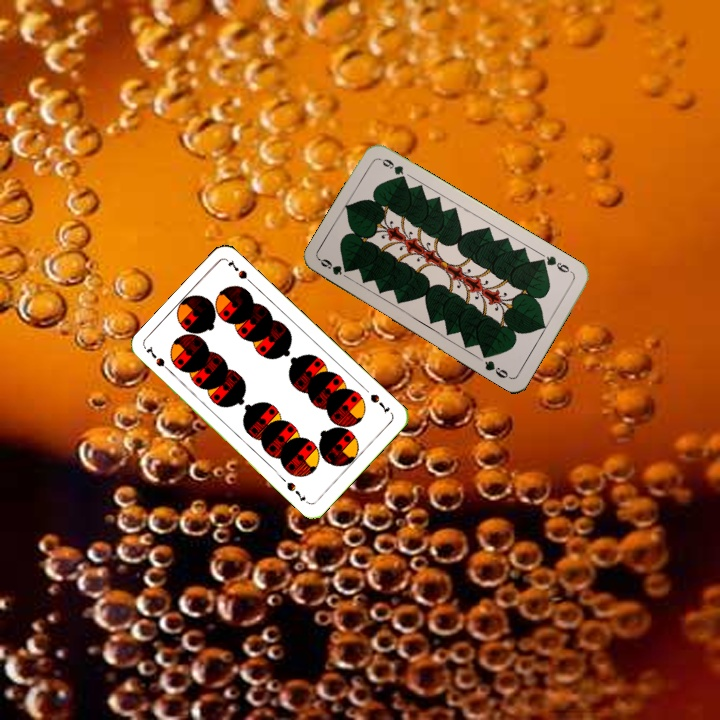G9: (536, 251, 576, 276), (316, 255, 353, 282)
S7: (142, 343, 175, 376), (366, 390, 392, 417)
